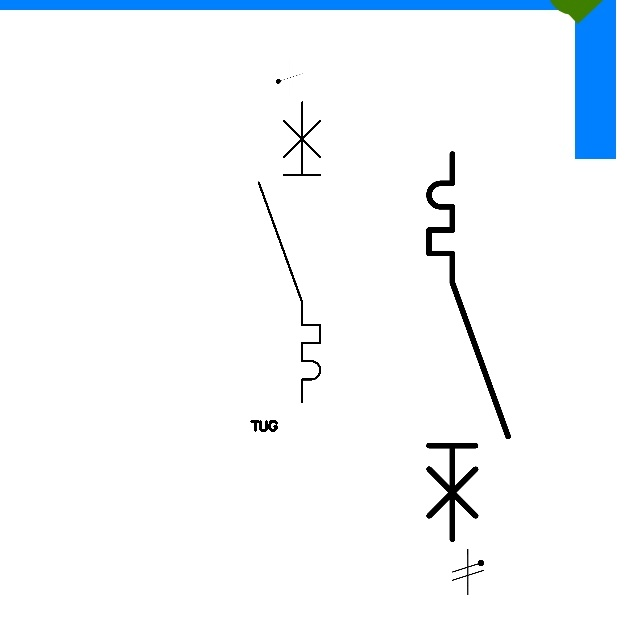interruptor_termomagnetico: (419, 144, 518, 549), (251, 94, 328, 409)
